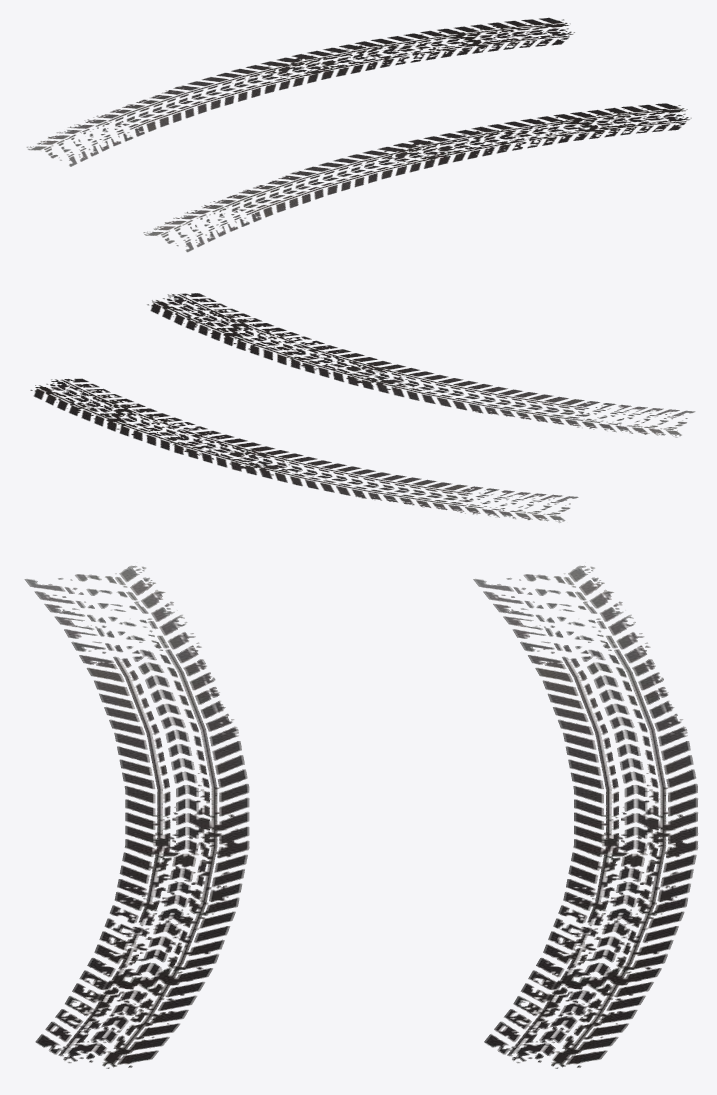
Rendered from Tire Track.fbx.
3 renders of one model, top to bottom at view 1: azimuth 30°, elevation 25°; view 2: azimuth 150°, elevation 25°; view 3: azimuth 270°, elevation 25°, orthographic. The views are drawn at different scales.
Parts seen in each view (by area): view 1: Tire Tracks.001, Tire Tracks; view 2: Tire Tracks, Tire Tracks.001; view 3: Tire Tracks, Tire Tracks.001.
Boxes of the visible parts, x1,y1,x2,y2 form: Tire Tracks.001: [26, 17, 575, 166]; Tire Tracks: [143, 103, 691, 252]; Tire Tracks: [146, 293, 695, 437]; Tire Tracks.001: [30, 378, 578, 523]; Tire Tracks: [24, 565, 249, 1068]; Tire Tracks.001: [473, 562, 698, 1068].
Size of the model in its own units: 101 by 0 by 55.61.
